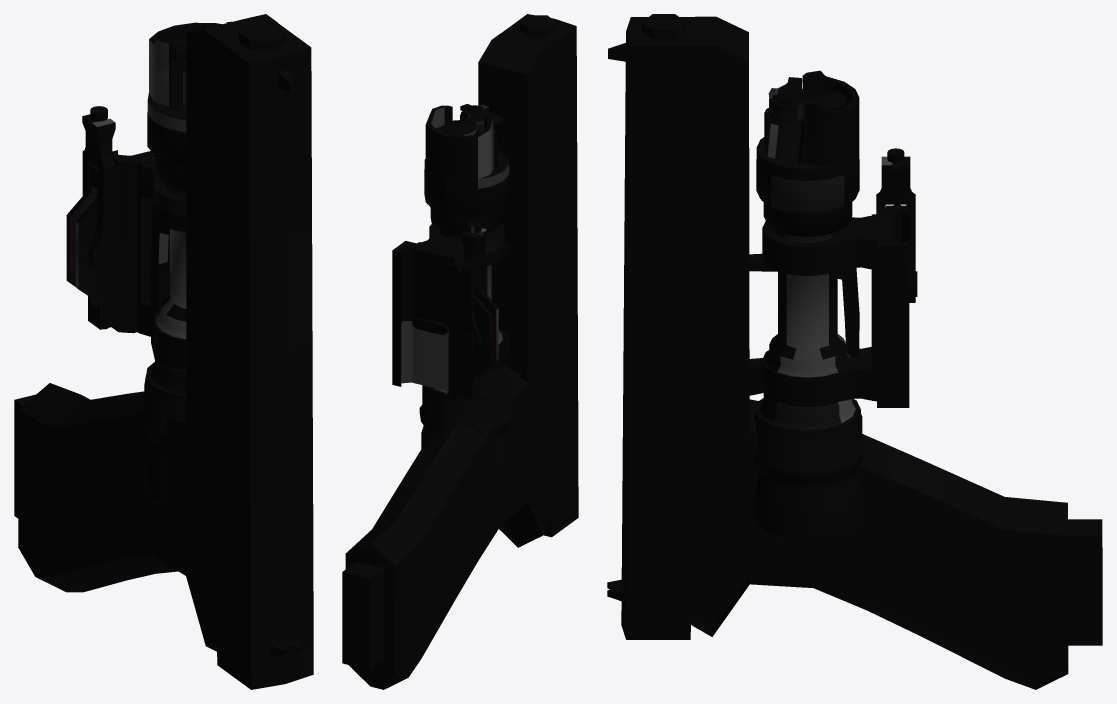
The model's file is Glock18C__Light_Weapon.fbx.
The picture shows the model from 3 angles, left to right: view 1: azimuth 30°, elevation 25°; view 2: azimuth 150°, elevation 25°; view 3: azimuth 270°, elevation 25°; orthographic projection. The views are drawn at different scales.
Visible parts, largest first — view 1: asset_Glock18C.001; view 2: asset_Glock18C.001; view 3: asset_Glock18C.001.
Boxes of the visible parts, x1=… form: asset_Glock18C.001: x1=14, y1=14, x2=313, y2=689; asset_Glock18C.001: x1=342, y1=14, x2=578, y2=689; asset_Glock18C.001: x1=607, y1=14, x2=1102, y2=689.
Size of the model in its own units: 0.0229 by 0.1152 by 0.0774.
